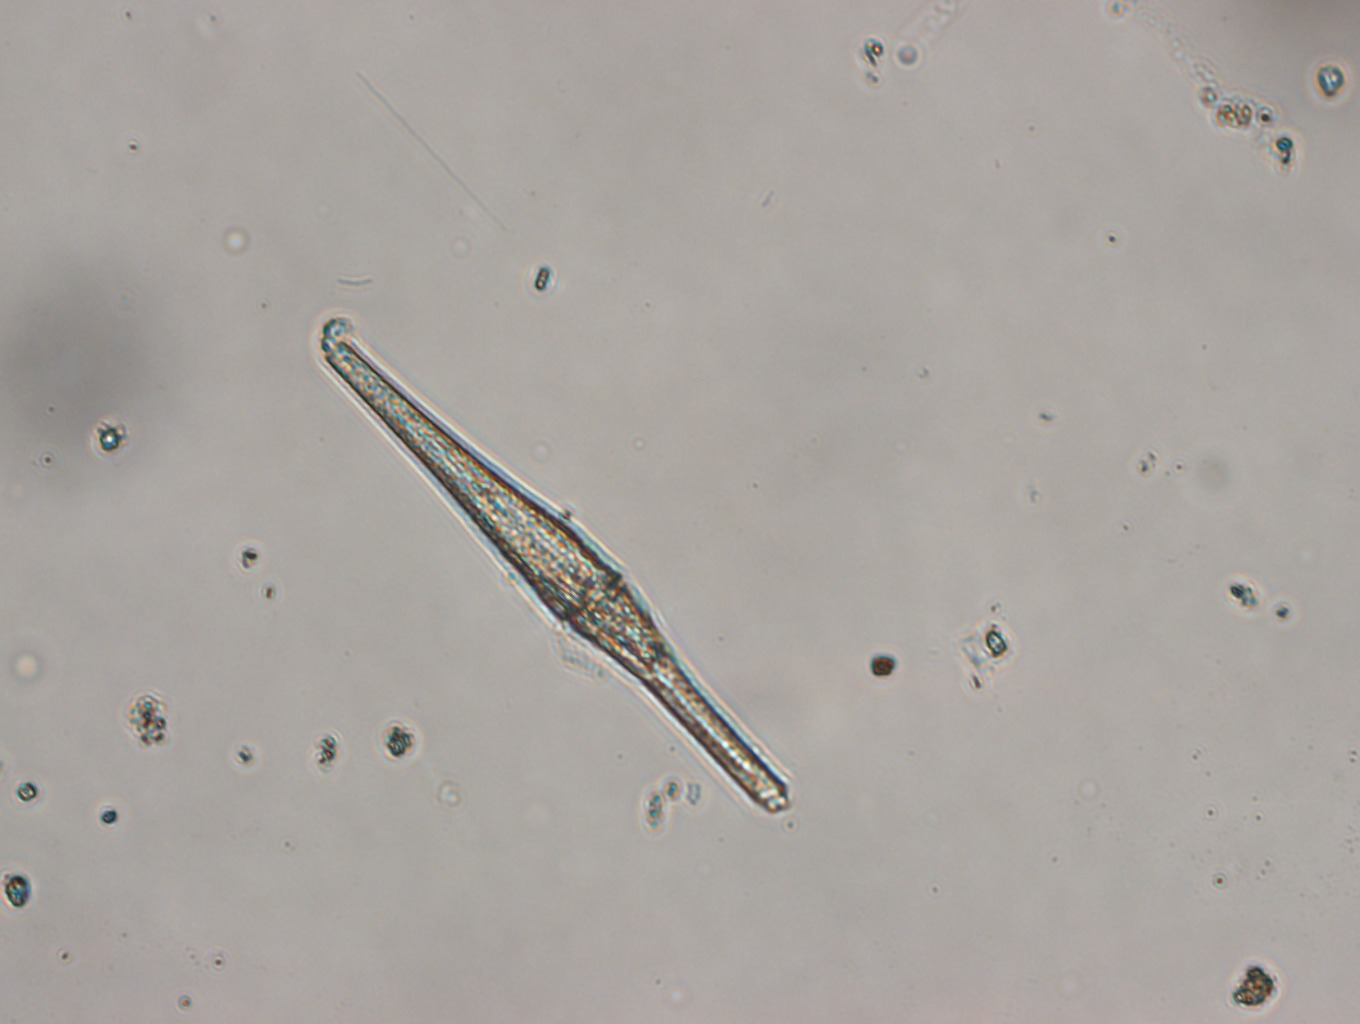ceratium fusus: (314, 324, 798, 821)
